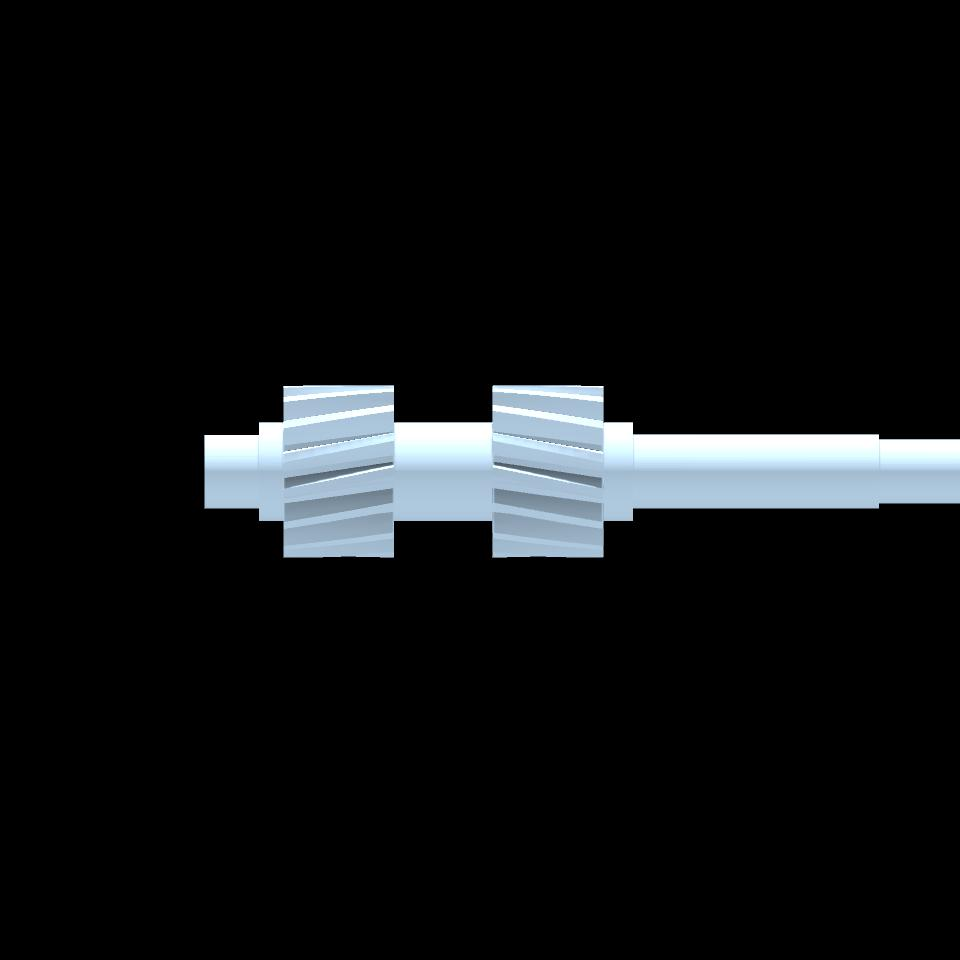Helical: (493, 384, 602, 558), (284, 385, 394, 556)
